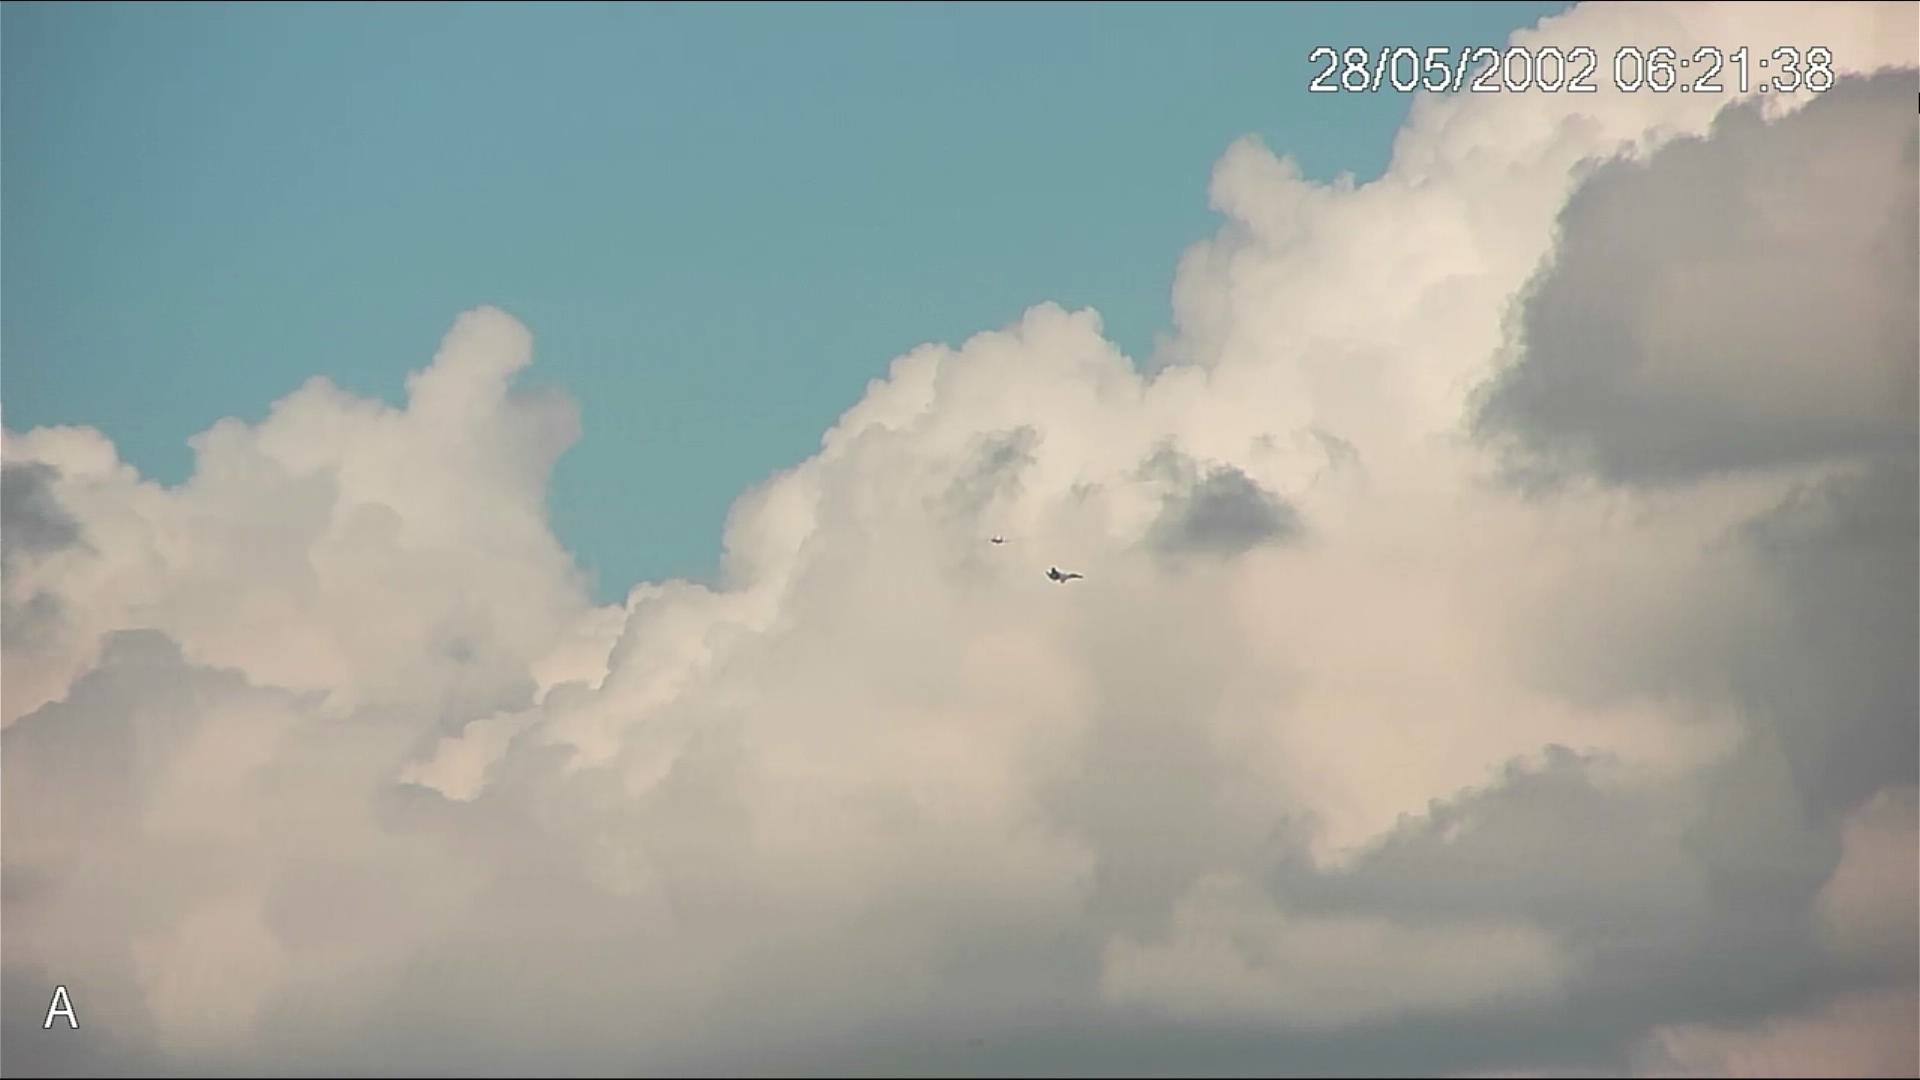SU_30: (1043, 566, 1085, 584)
